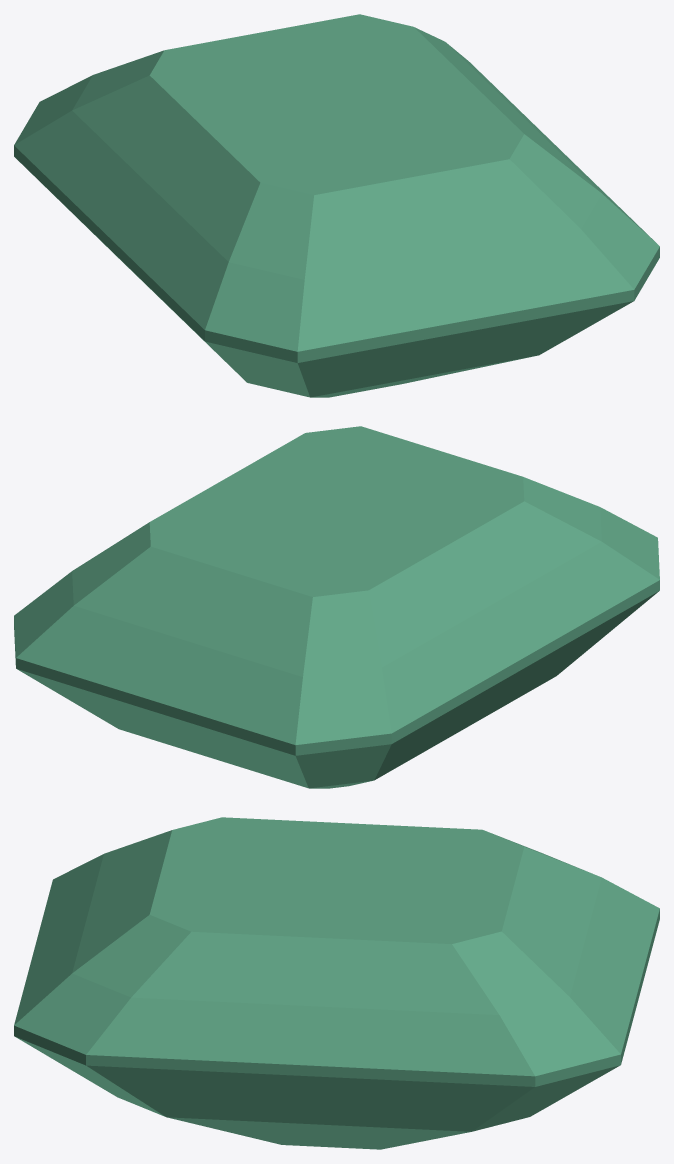
The model's file is stone-tourmaline.glb.
The picture shows the model from 3 angles, top to bottom: view 1: azimuth 30°, elevation 25°; view 2: azimuth 150°, elevation 25°; view 3: azimuth 270°, elevation 25°; orthographic projection. The views are drawn at different scales.
Visible parts, largest first — view 1: Gemstone Tourmaline; view 2: Gemstone Tourmaline; view 3: Gemstone Tourmaline.
Part boxes in pixels (x1,y1,x2,y2): Gemstone Tourmaline: (14,14,659,397); Gemstone Tourmaline: (14,426,659,788); Gemstone Tourmaline: (14,817,659,1149).
Size of the model in its own units: 2.2 by 1.15 by 2.75.
